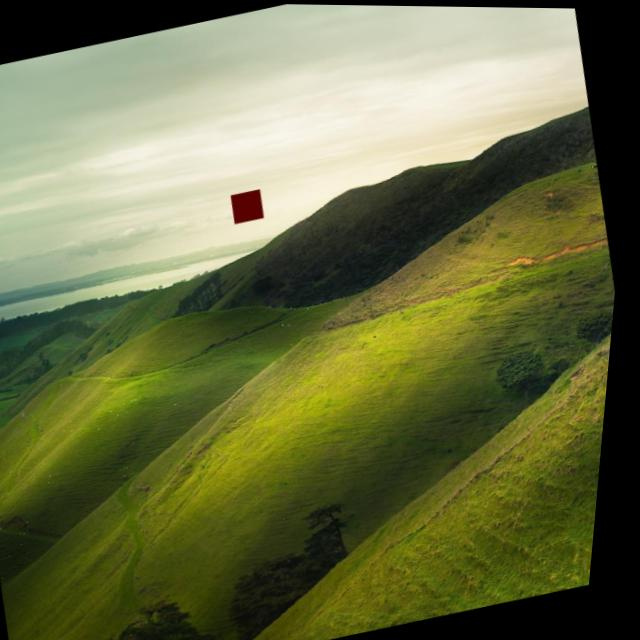RedSquare: (224, 179, 276, 227)
